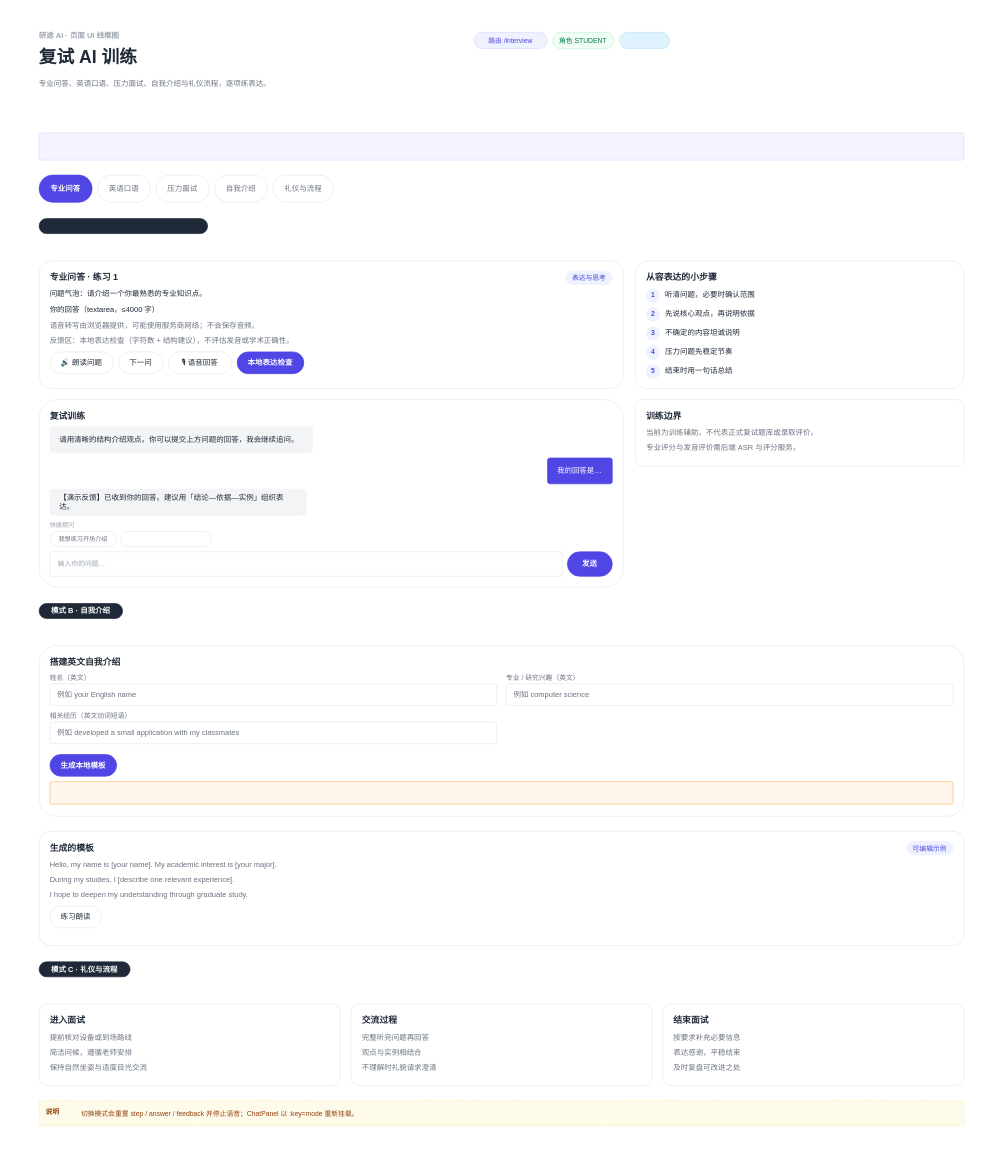
The diagram is 1004 pixels wide and 1172 high, and some of its shapes have lost their labels. Each missing label, with the box of its shape:
ⓘ 当前为前端演示。示例院校、学习资料与 AI 回复均不代表真实业务结果；本地学习操作仅保存在本浏览器。: (38, 132, 964, 160)
怎样组织专业问题的回答？: (120, 531, 212, 546)
模式 A · 专业问答 / 英语口语 / 压力面试: (38, 218, 208, 234)
模式 demo: (619, 32, 670, 49)
输入只在当前页面内存中保留；live 模式提示暂无结构化接口。: (49, 781, 953, 804)
